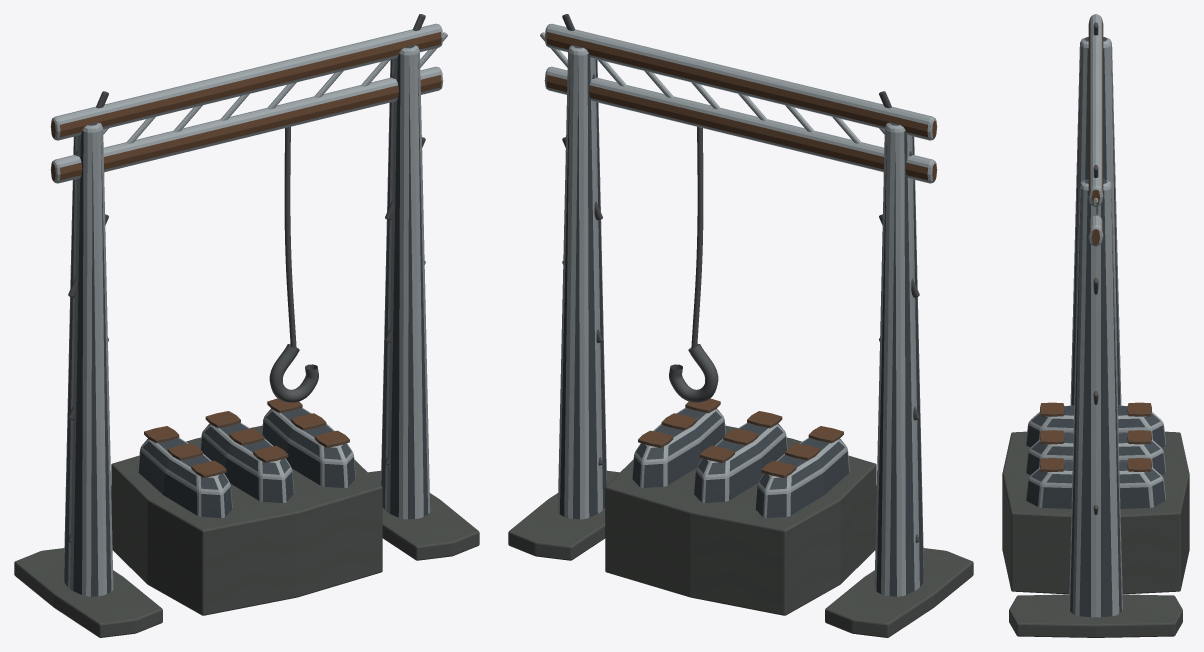
Rendered from hoist.glb.
3 renders of one model, left to right at view 1: azimuth 30°, elevation 25°; view 2: azimuth 150°, elevation 25°; view 3: azimuth 270°, elevation 25°, orthographic. The views are drawn at different scales.
Visible parts, largest first — view 1: GT_0130_hoist; view 2: GT_0130_hoist; view 3: GT_0130_hoist.
Boxes of the visible parts, x1=… form: GT_0130_hoist: x1=14, y1=14, x2=479, y2=637; GT_0130_hoist: x1=508, y1=14, x2=973, y2=637; GT_0130_hoist: x1=1002, y1=14, x2=1189, y2=637.
Bounding box in the file's own units: 6.72 × 8.22 × 3.
Materials: 1 (1 with a texture image).
